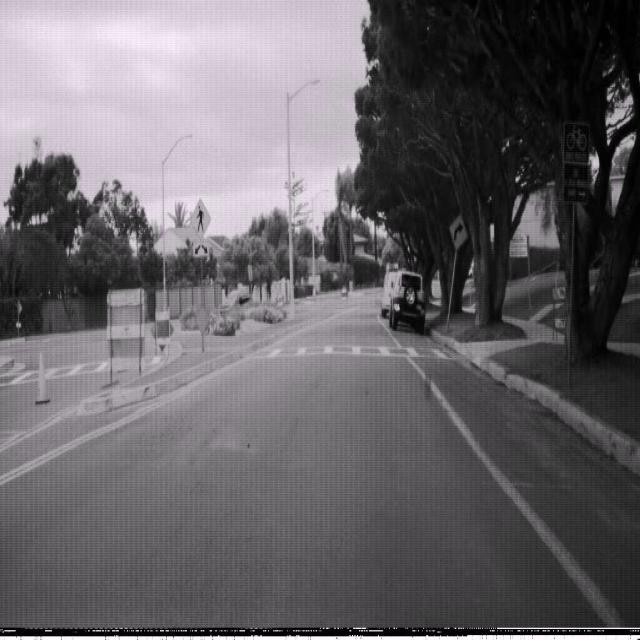pedestrianCrossing: (189, 196, 212, 240)
